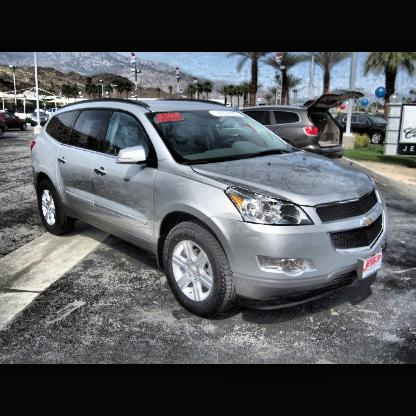Chevrolet Traverse SUV 2012: (30, 99, 387, 323)
